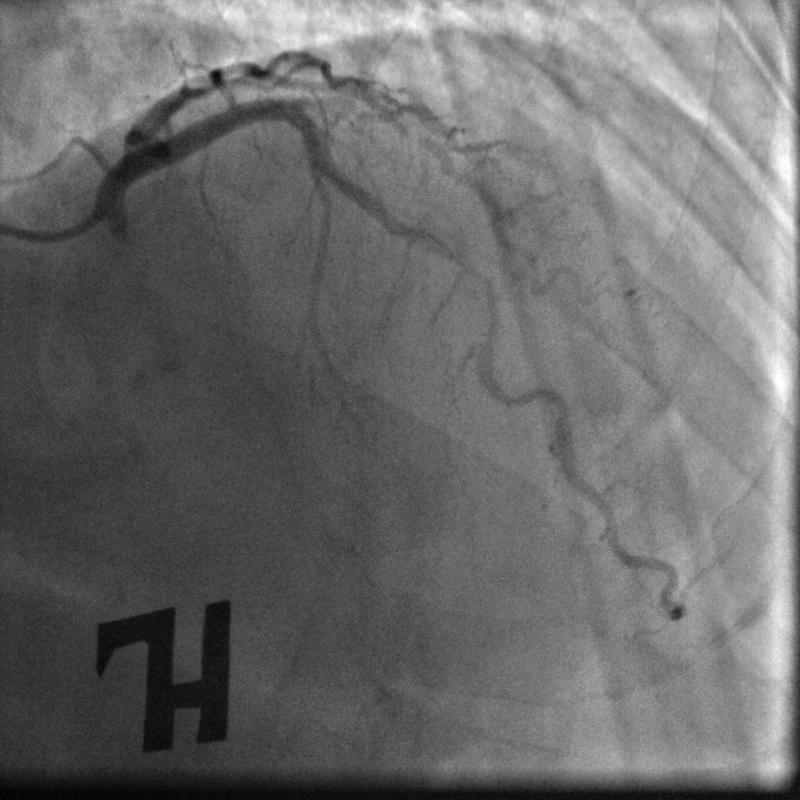Stenosis: (456, 250, 502, 339)
